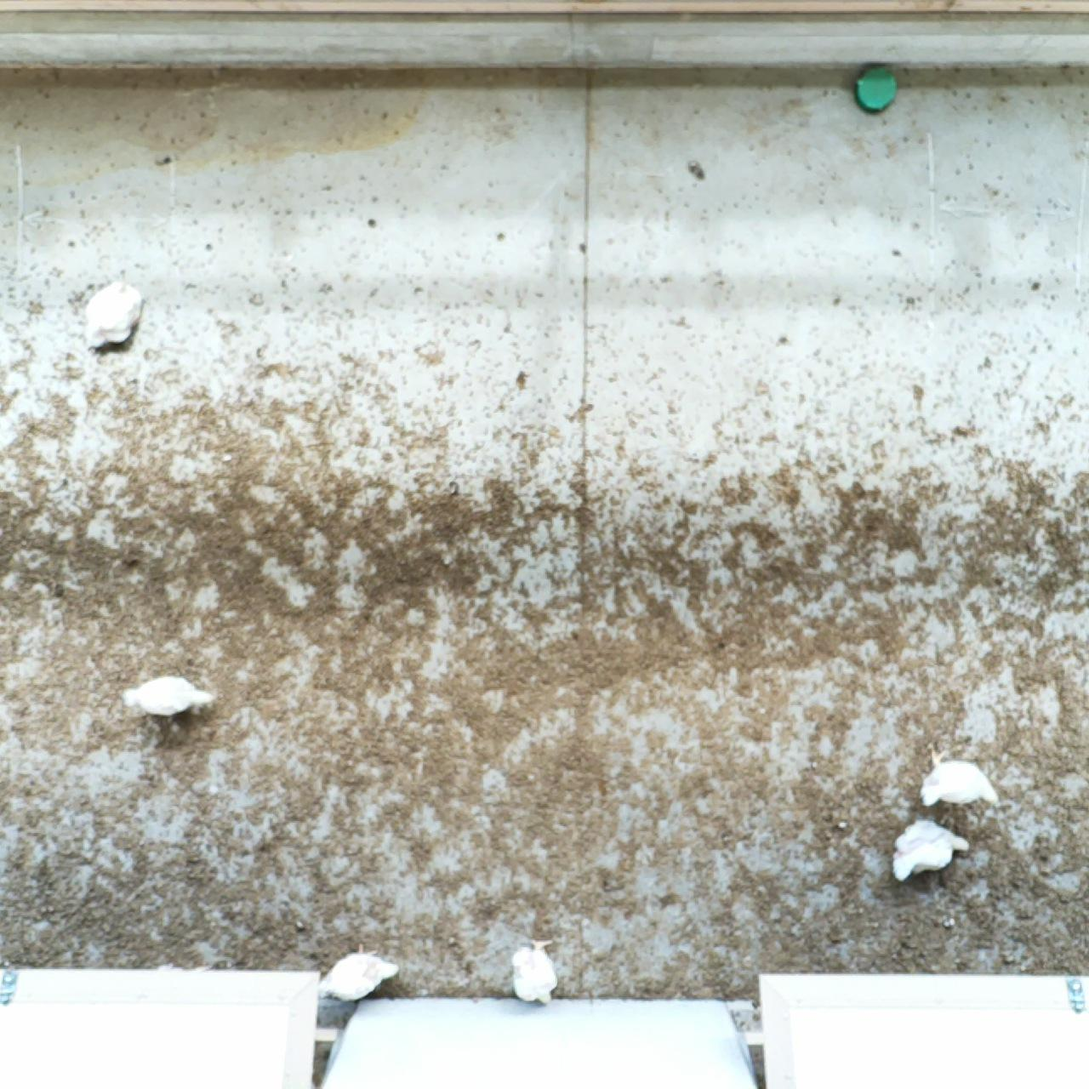chicken: (888, 815, 973, 884), (317, 942, 400, 1004), (918, 749, 1000, 807), (82, 277, 146, 351), (122, 674, 219, 719), (507, 934, 562, 1007)
